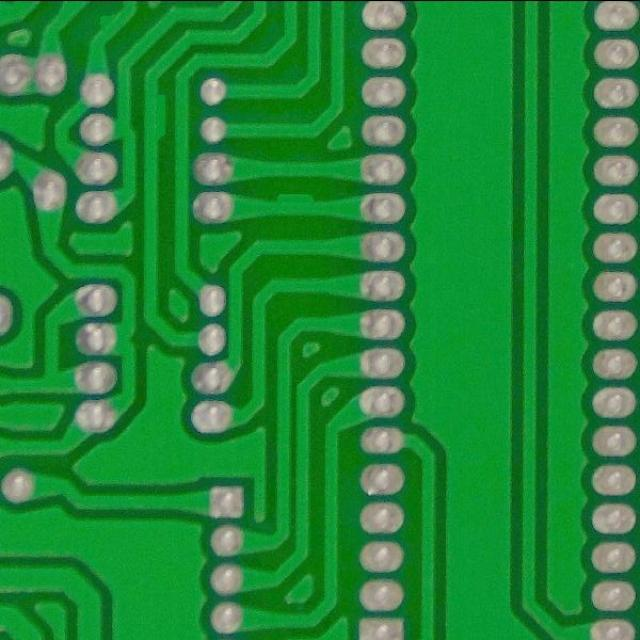Spur: (134, 86, 175, 150), (266, 187, 325, 223)
